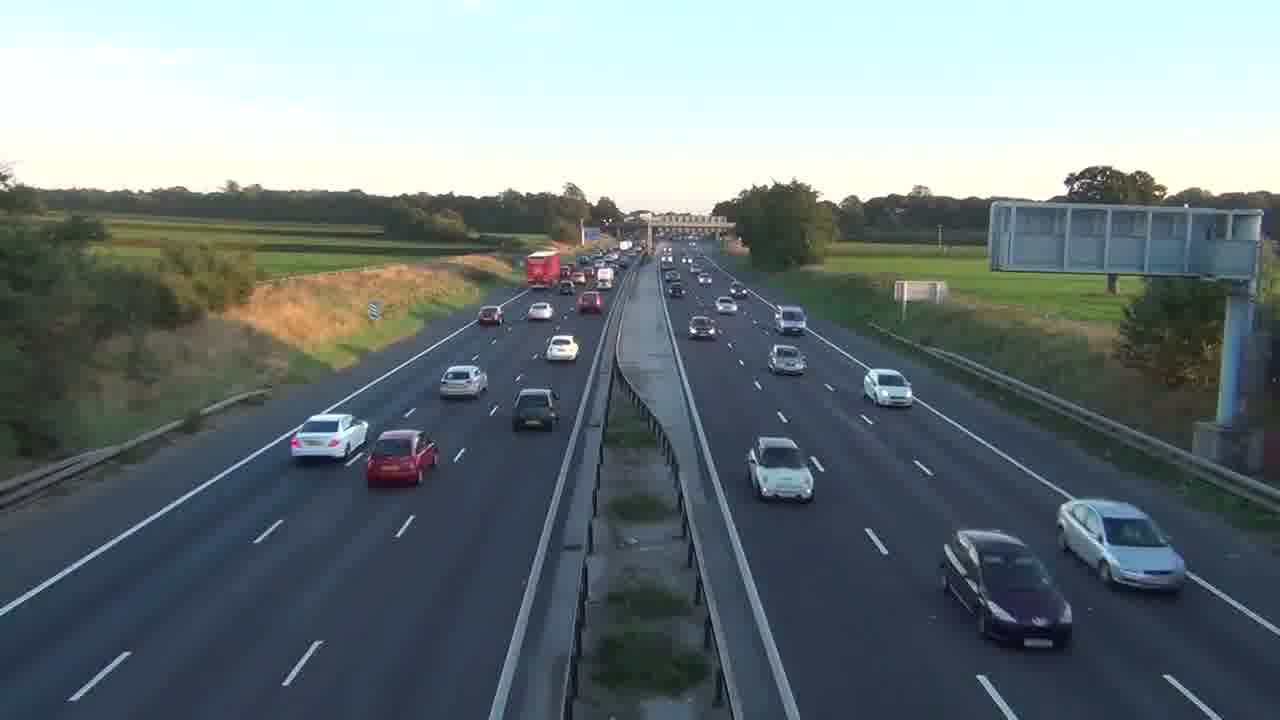car: (939, 528, 1074, 651), (1056, 497, 1187, 594), (745, 435, 820, 502), (366, 429, 439, 488), (289, 413, 370, 465), (512, 387, 560, 431), (863, 368, 913, 408), (438, 364, 488, 399), (767, 343, 806, 376), (545, 333, 580, 362)
